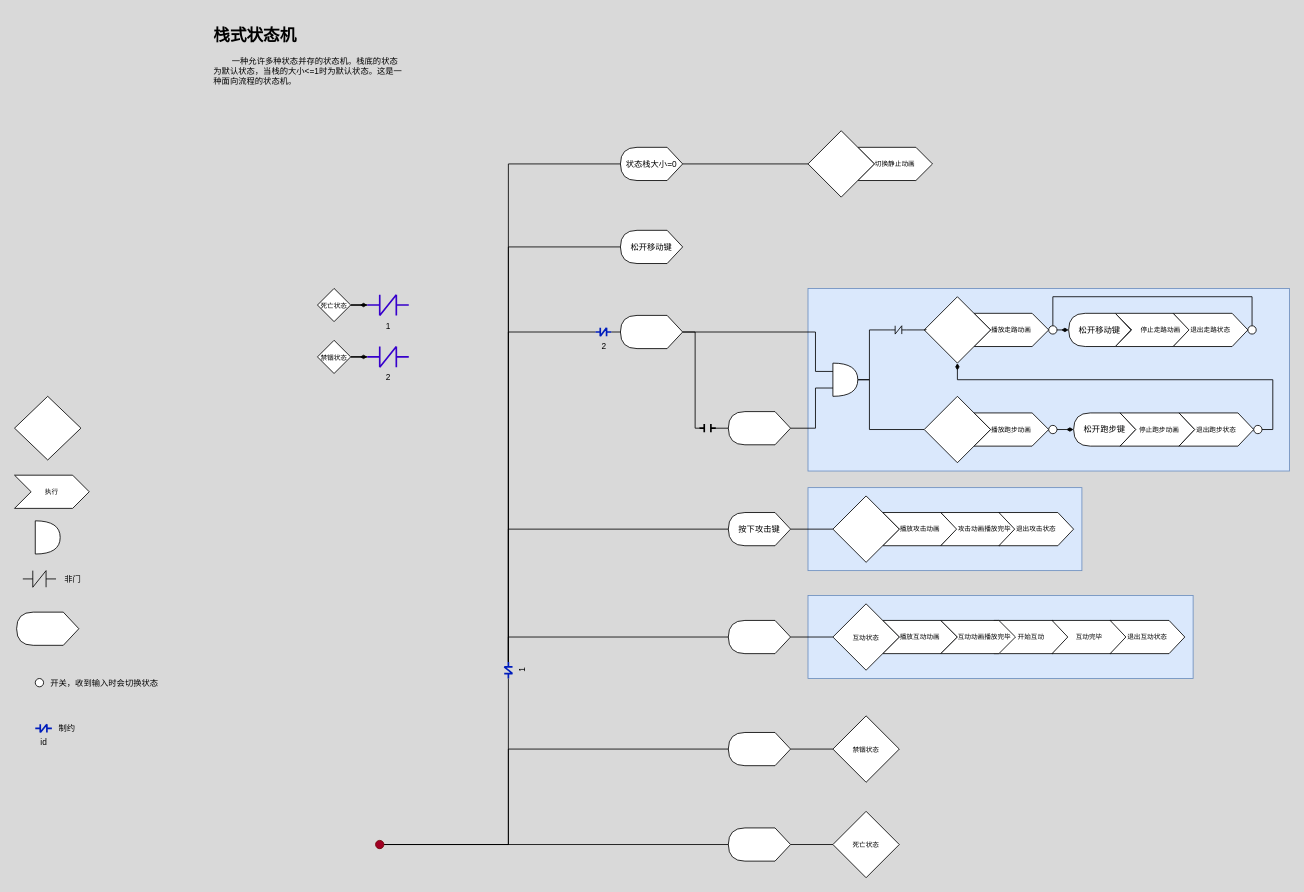
This 1304x892 diagram has some shape labels left out. Here are the shapes that lost their labels. From the top down, the centre of each, then its label:
At pixel 840 163: "静止状态".
At pixel 651 332: "按住移动键".
At pixel 957 329: "走路状态".
At pixel 47 427: "状态".
At pixel 759 428: "按住跑步键".
At pixel 957 429: "跑步状态".
At pixel 47 537: "与门".
At pixel 865 528: "攻击状态".
At pixel 47 628: "判断".
At pixel 759 637: "互动".
At pixel 759 749: "被禁锢".
At pixel 759 844: "死亡".
